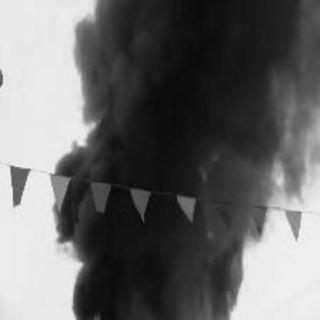Smoke: (50, 0, 312, 317)
